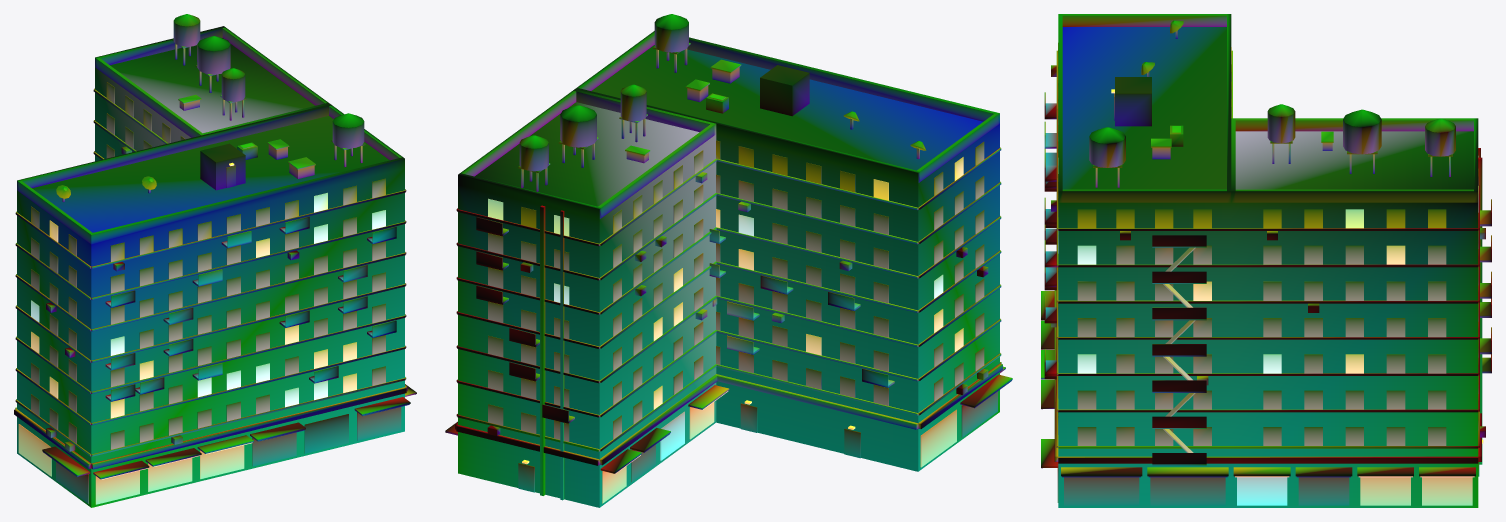
The model's file is Block_Corner.fbx.
The picture shows the model from 3 angles, left to right: view 1: azimuth 30°, elevation 25°; view 2: azimuth 150°, elevation 25°; view 3: azimuth 270°, elevation 25°; orthographic projection. The views are drawn at different scales.
Parts seen in each view (by area): view 1: Block_Corner_LOD0; view 2: Block_Corner_LOD0; view 3: Block_Corner_LOD0.
Boxes of the visible parts, box(x1,y1,x2,y2) form: Block_Corner_LOD0: box(14, 14, 416, 507); Block_Corner_LOD0: box(445, 14, 1012, 507); Block_Corner_LOD0: box(1041, 14, 1491, 507).
Size of what is drawn, in the model's own units: 37.1 by 32.49 by 36.5.
